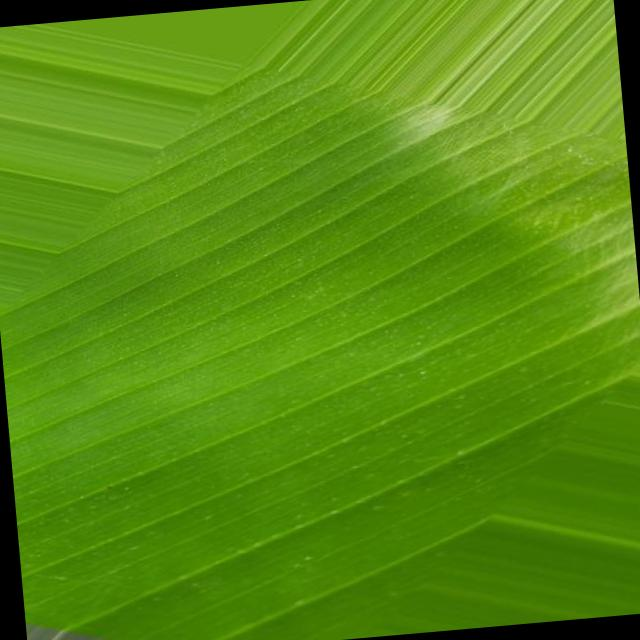Banana_Healthy: (162, 128, 566, 582)
